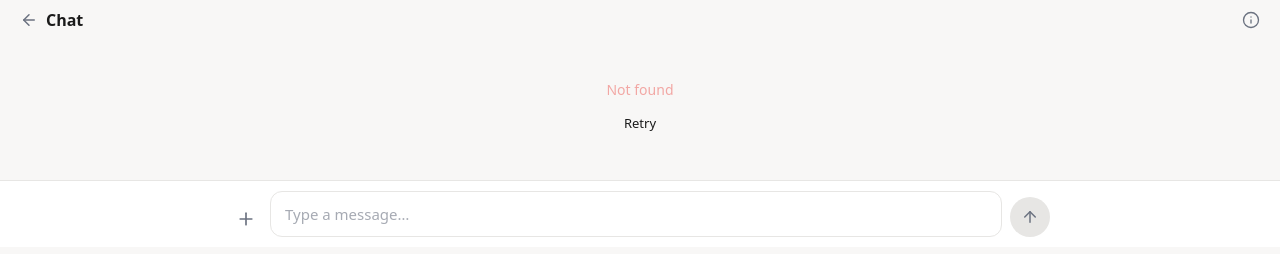
Test case: ChatView › shows initial load error with a working retry action
Expected: the element with test id "load-error" shows "Not found", x1=606 y1=80 x2=674 y2=99
Click the button with test id "retry-load": (640, 124) x1=608 y1=108 x2=672 y2=140
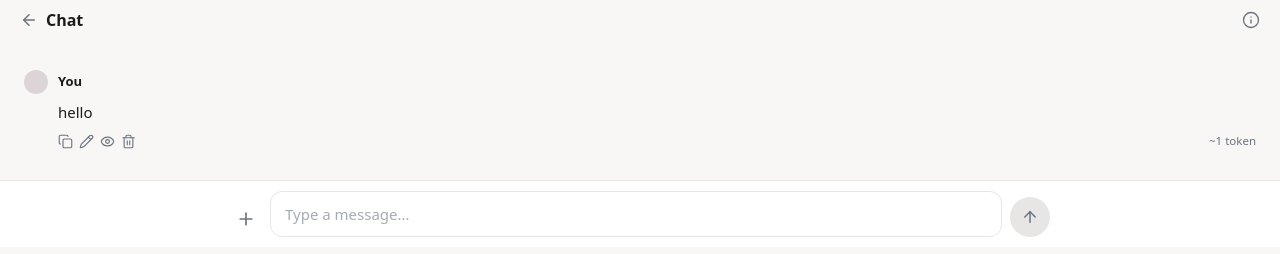
Now the text "hello" is shown, box x1=58 y1=102 x2=92 y2=122
